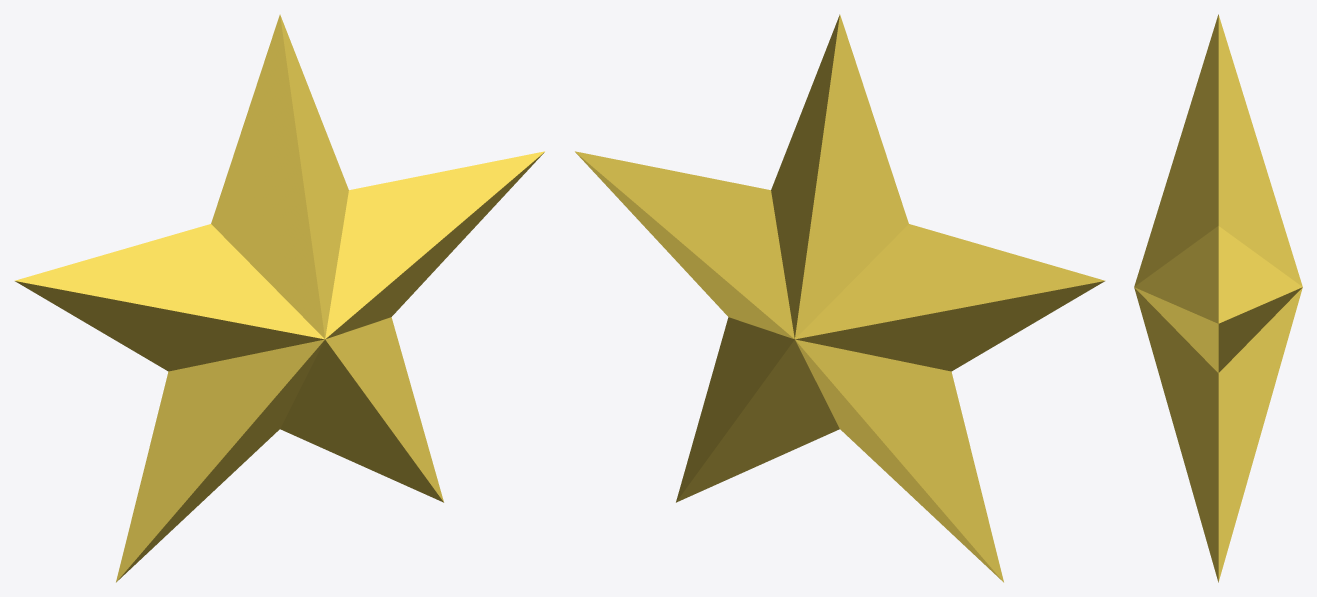
The model's file is estrella.glb.
3 renders of one model, left to right at view 1: azimuth 30°, elevation 25°; view 2: azimuth 150°, elevation 25°; view 3: azimuth 270°, elevation 25°, orthographic. The views are drawn at different scales.
Visible parts, largest first — view 1: Estrella; view 2: Estrella; view 3: Estrella.
Boxes of the visible parts, x1,y1,x2,y2 form: Estrella: (14, 14, 544, 582); Estrella: (575, 14, 1105, 582); Estrella: (1134, 14, 1302, 582).
Size of the model in its own units: 1.9 by 1.81 by 0.56.
